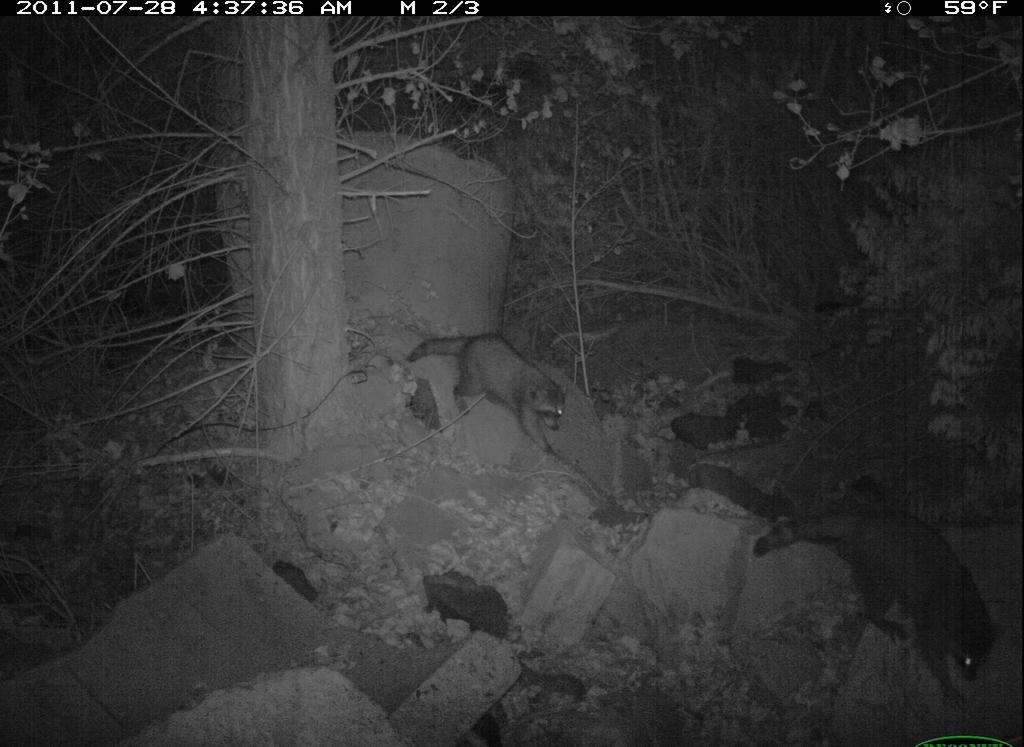raccoon: (753, 488, 1004, 725), (404, 327, 584, 464)
